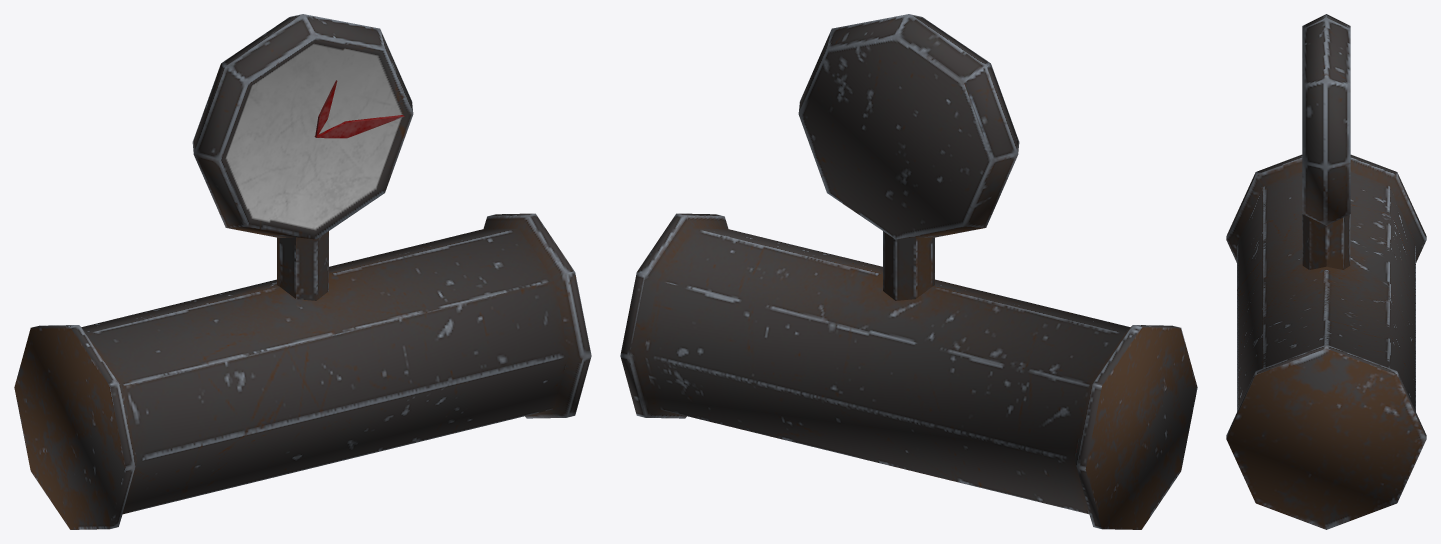
Rendered from pipe_meter.gltf.
3 renders of one model, left to right at view 1: azimuth 30°, elevation 25°; view 2: azimuth 150°, elevation 25°; view 3: azimuth 270°, elevation 25°, orthographic. The views are drawn at different scales.
Parts seen in each view (by area): view 1: Cylinder.012; view 2: Cylinder.012; view 3: Cylinder.012.
Boxes of the visible parts, x1=… form: Cylinder.012: x1=14, y1=14, x2=591, y2=529; Cylinder.012: x1=620, y1=14, x2=1197, y2=529; Cylinder.012: x1=1226, y1=14, x2=1426, y2=529.
Bounding box in the file's own units: 6 × 5.66 × 2.5.
Materials: 1 (1 with a texture image).
